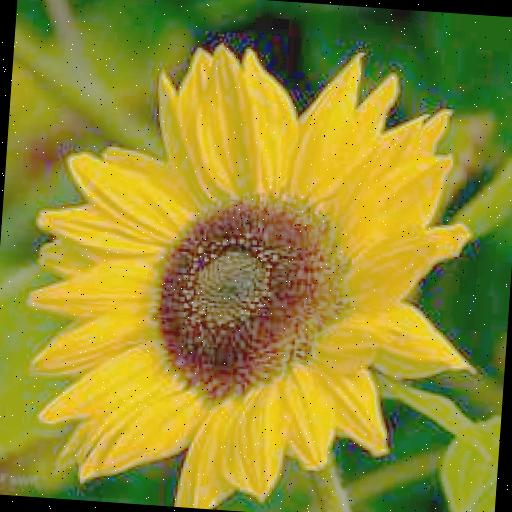sunflower: (14, 29, 481, 512)
